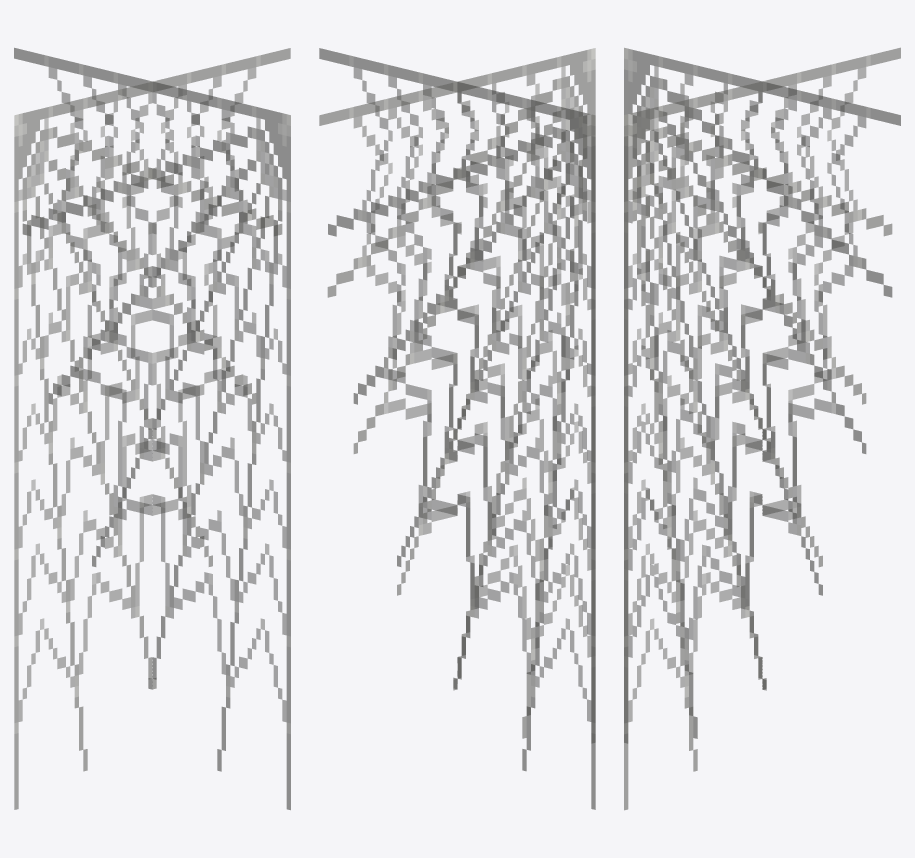
Rendered from cobweb_v2.glb.
3 renders of one model, left to right at view 1: azimuth 30°, elevation 25°; view 2: azimuth 150°, elevation 25°; view 3: azimuth 270°, elevation 25°, orthographic.
Visible parts, largest first — view 1: cobweb_v2; view 2: cobweb_v2; view 3: cobweb_v2.
Part boxes in pixels (<box>): cobweb_v2: <box>14,48,290,809</box>; cobweb_v2: <box>319,48,595,809</box>; cobweb_v2: <box>624,47,900,810</box>.
Bounding box in the file's own units: 0.5001 × 1.2 × 0.4333.
1 material, 1 textured.
